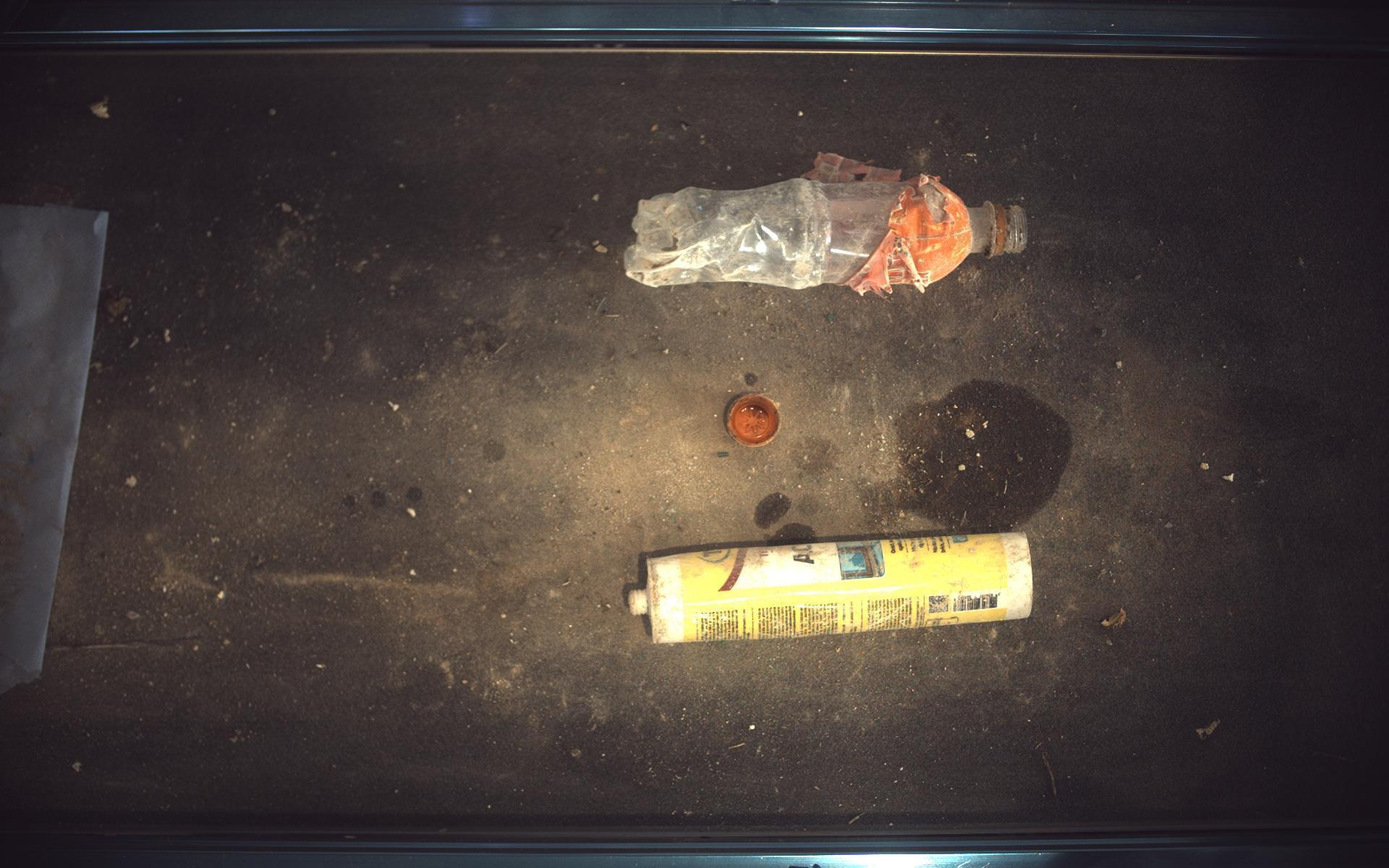general_w: (728, 395, 779, 446)
plastic: (629, 532, 1035, 644)
